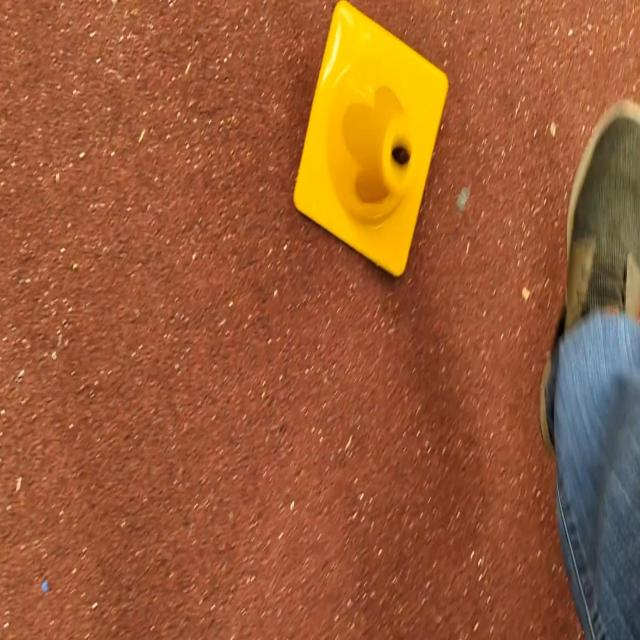frc_cone: (287, 3, 450, 283)
